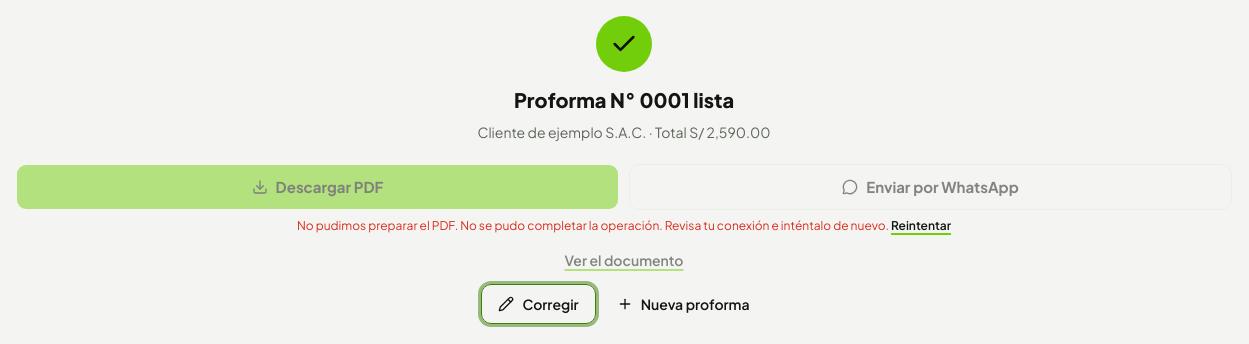
Test: ProformaReady › si no se puede preparar el PDF, lo dice y deja reintentar
The width and height of the screenshot is (1249, 344).
Check: the message that starts with "No pudimos preparar el PDF." is shown, box x1=297 y1=218 x2=460 y2=233
Click the button "Reintentar" at x=921, y=226, box x1=891 y1=218 x2=951 y2=234
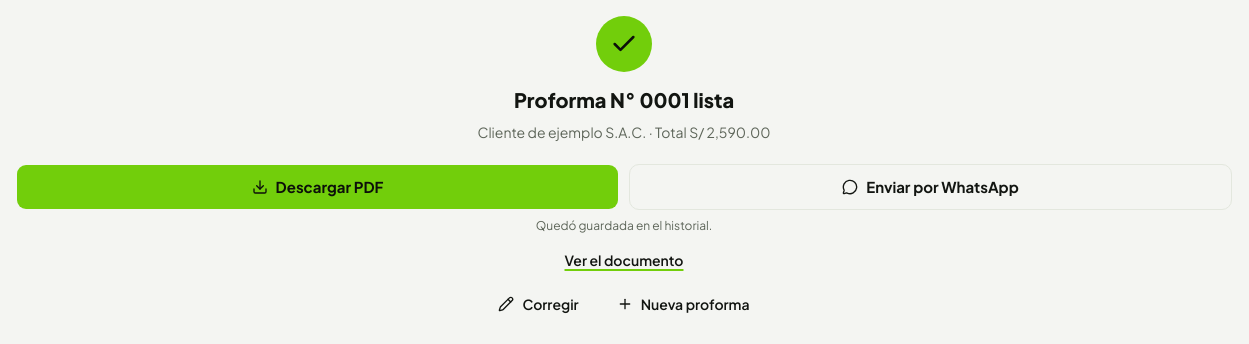
Check: the button "Descargar PDF" is enabled, box x1=16 y1=164 x2=619 y2=210
